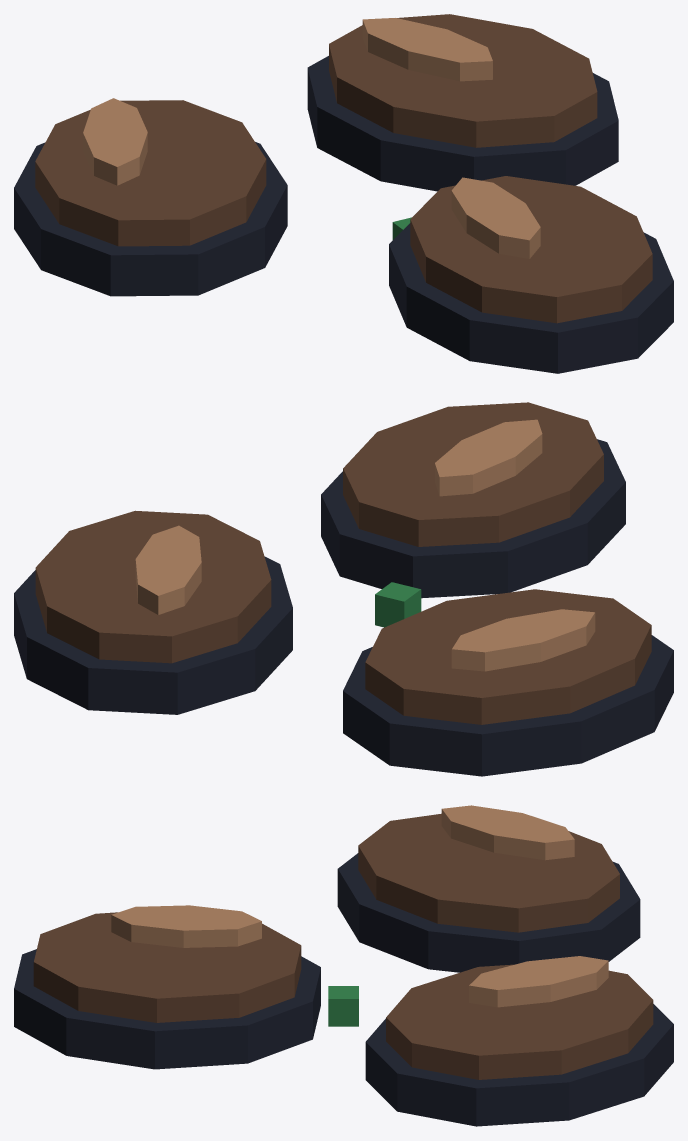
File: thorn_seeds.fbx
3 renders of one model, top to bottom at view 1: azimuth 30°, elevation 25°; view 2: azimuth 150°, elevation 25°; view 3: azimuth 270°, elevation 25°, orthographic. The views are drawn at different scales.
Visible parts, largest first — view 1: thorn_seeds__Icon; view 2: thorn_seeds__Icon, thorn_seeds__Origin; view 3: thorn_seeds__Icon, thorn_seeds__Origin.
Boxes of the visible parts, box(x1,y1,x2,y2) form: thorn_seeds__Icon: box(14, 14, 673, 373); thorn_seeds__Icon: box(14, 402, 673, 776); thorn_seeds__Origin: box(375, 582, 421, 627); thorn_seeds__Icon: box(14, 805, 673, 1126); thorn_seeds__Origin: box(328, 986, 358, 1026).
Size of the model in its own units: 0.8075 by 0.145 by 0.8619.
1 material, 1 textured.
